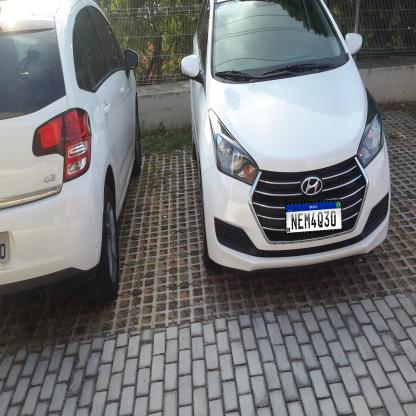PlacaM: (285, 199, 343, 235)
